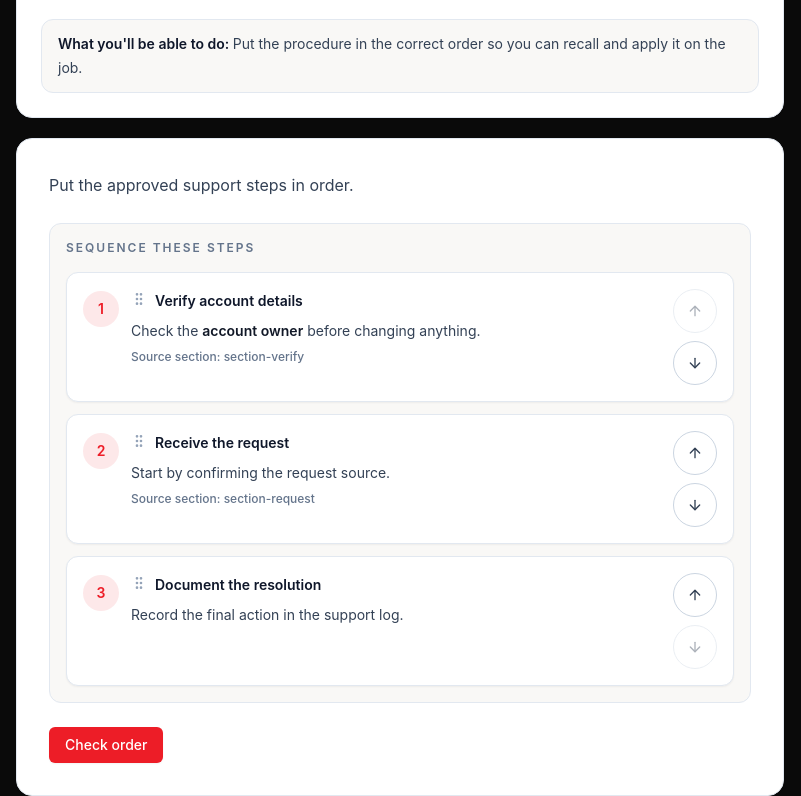
Test: LessonContentRenderer ordering lessons › shows incorrect feedback and retry without completing
(page scrolled)
Click the button "Check order" at (106, 745), box [49,727,164,763]
(page scrolled)
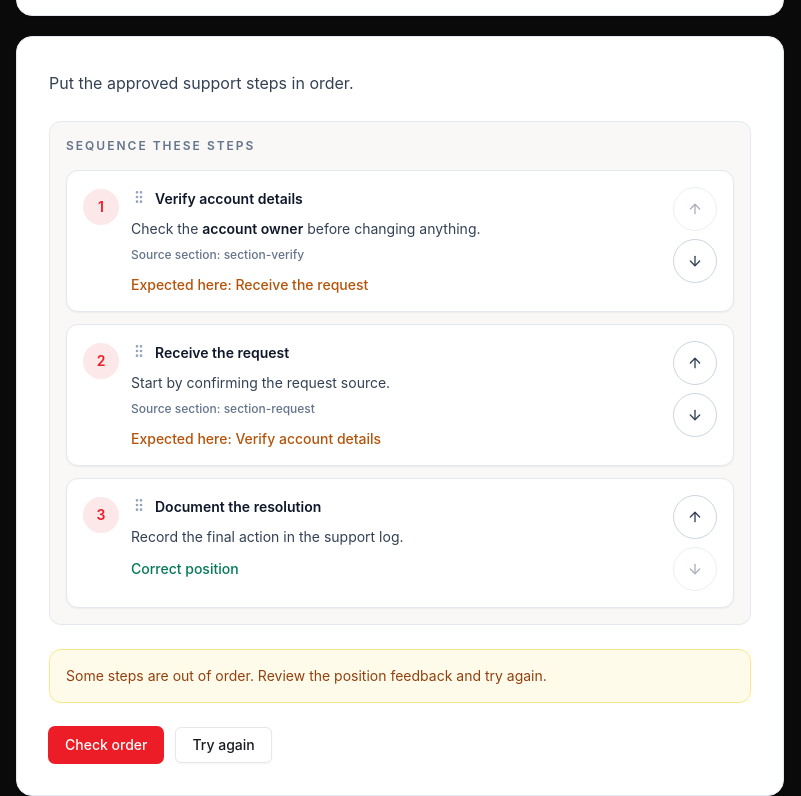
expect the message shows "Some steps are out of order": met, box [66,667,547,684]
expect the text "Expected here: Receive the request" is shown: met, box [131,276,368,293]
expect the button "Try again" is shown: met, box [176,727,272,763]
